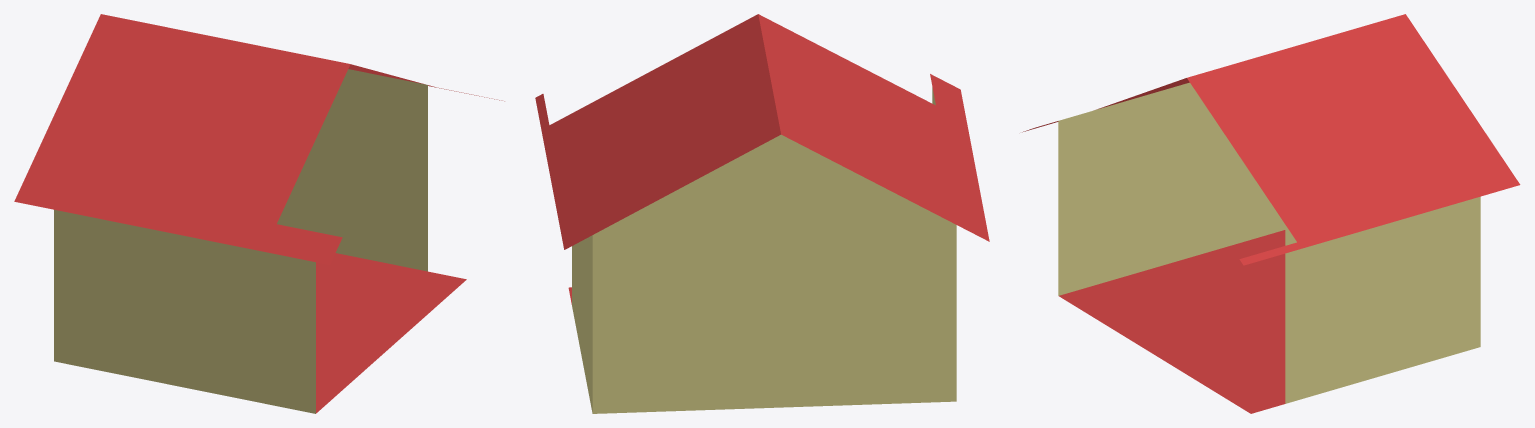
3 views of the same model, side by side, from view 1: azimuth 30°, elevation 25°; view 2: azimuth 150°, elevation 25°; view 3: azimuth 270°, elevation 25° (orthographic). The views are drawn at different scales.
Size of the model in its own units: 27.06 by 26.26 by 15.34.
